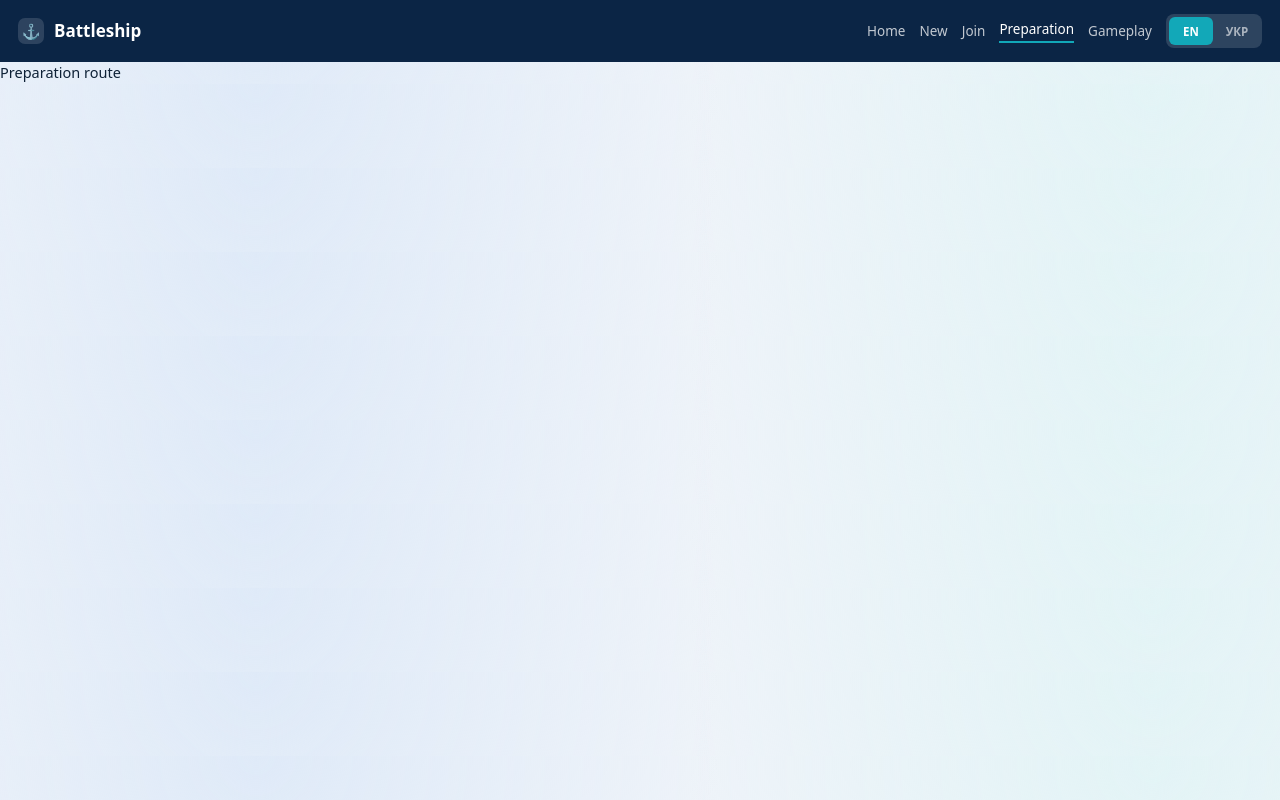
AppBar › opens the leave-confirmation dialog instead of navigating when session is mid-game (PREPARATION)
The image size is (1280, 800).
Click the link "Home": (886, 31) left=867, top=21, right=906, bottom=41
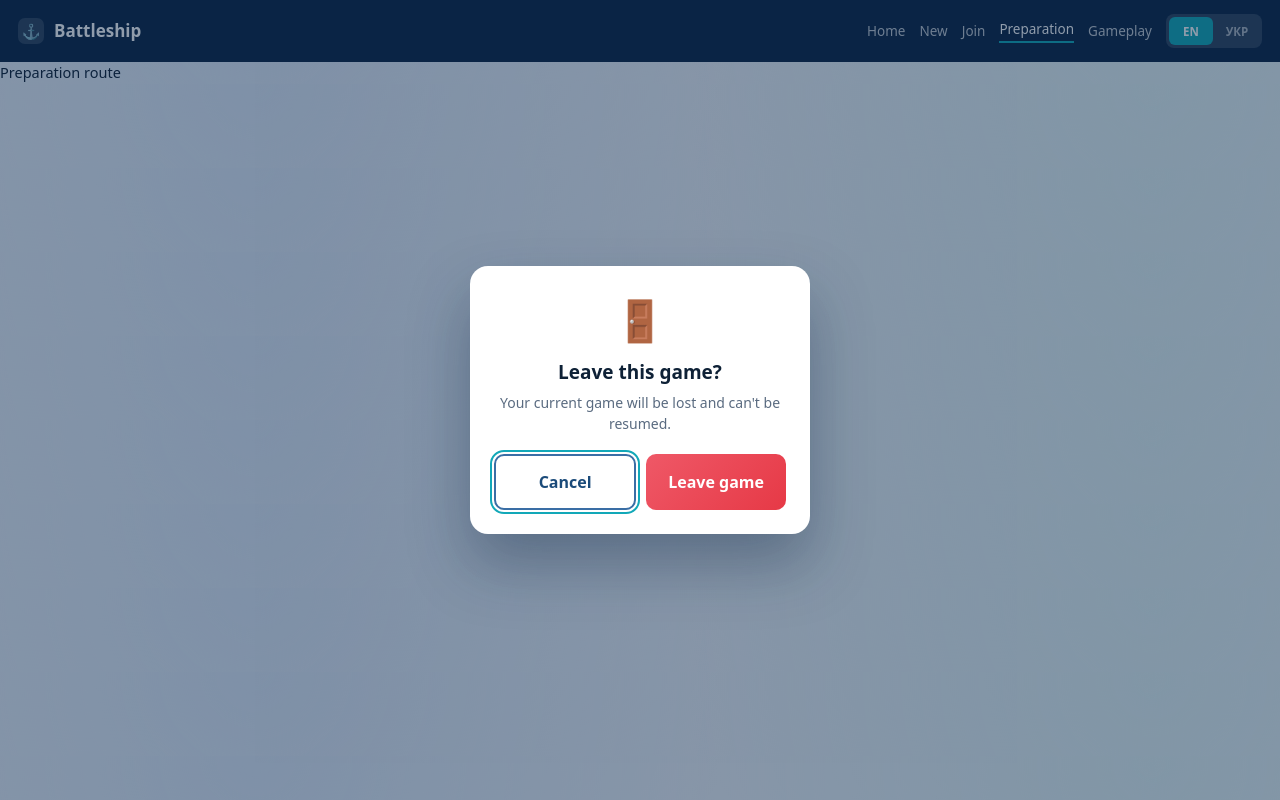
expect the text "Preparation route" is shown: met, box left=0, top=62, right=121, bottom=82
expect the dialog is shown: met, box left=470, top=266, right=810, bottom=534
